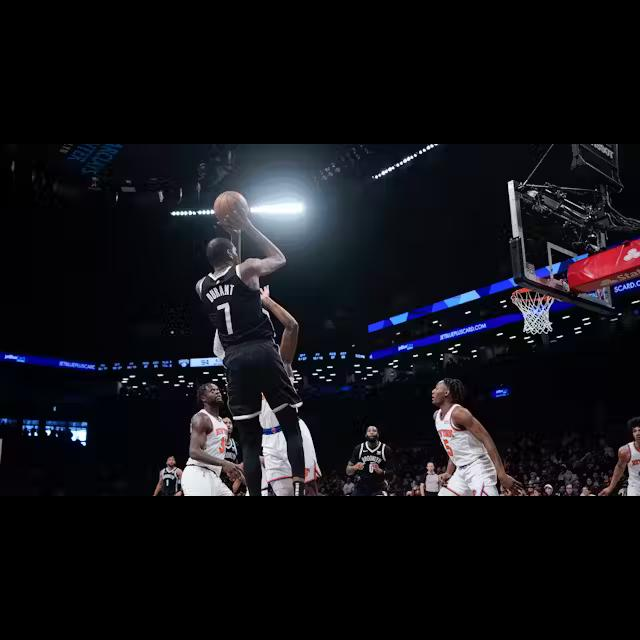basketball: (213, 192, 248, 225)
hoop: (510, 288, 556, 334)
